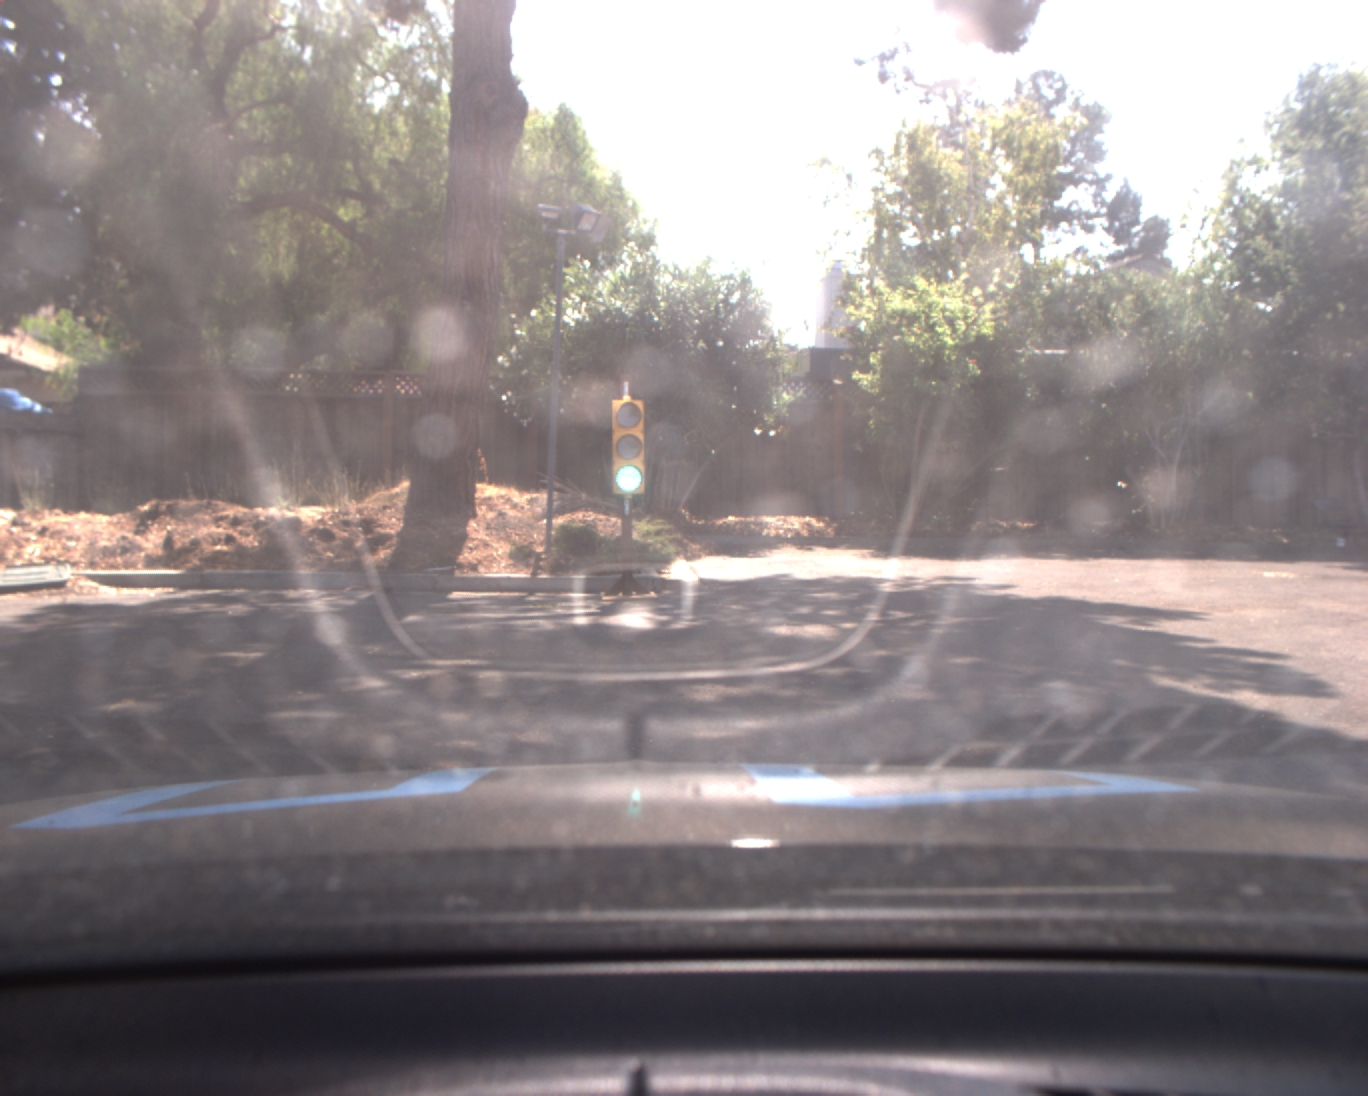green: (607, 393, 656, 502)
